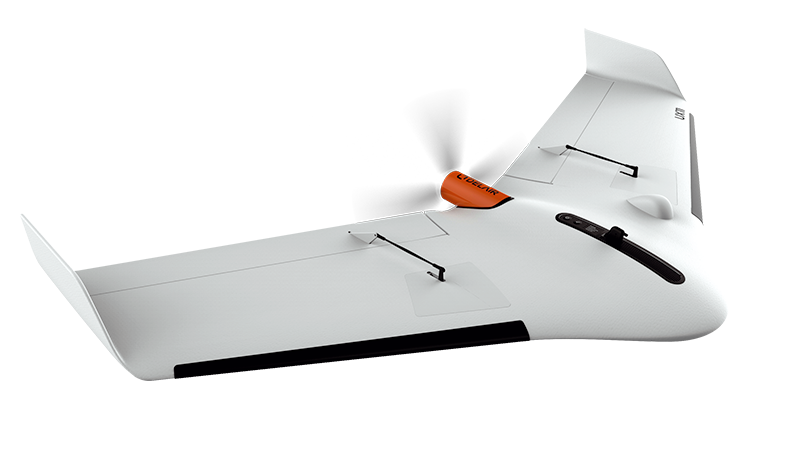drone: (69, 44, 732, 385)
